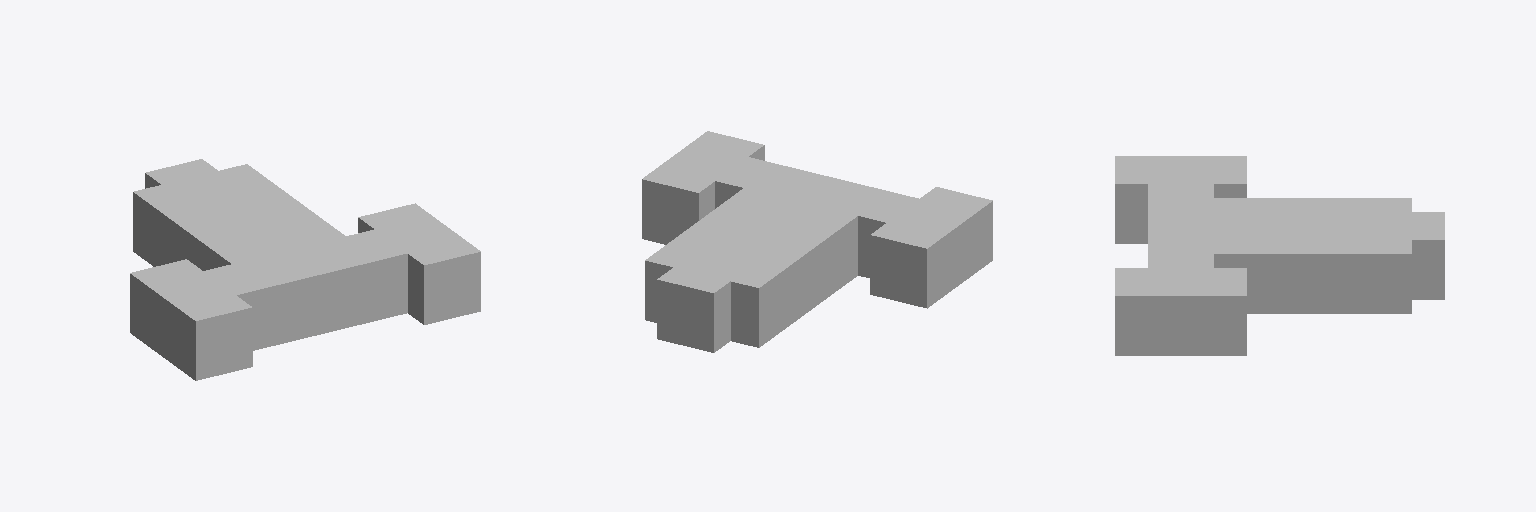
Rendered from howard.obj.
3 views of the same model, side by side, from view 1: azimuth 30°, elevation 25°; view 2: azimuth 150°, elevation 25°; view 3: azimuth 270°, elevation 25° (orthographic).
Parts seen in each view (by area): view 1: Cube; view 2: Cube; view 3: Cube.
Part boxes in pixels (x1,y1,x2,y2): Cube: (130,159,480,380); Cube: (642,131,992,352); Cube: (1115,156,1444,355).
Bounding box in the file's own units: 10 × 2 × 10.